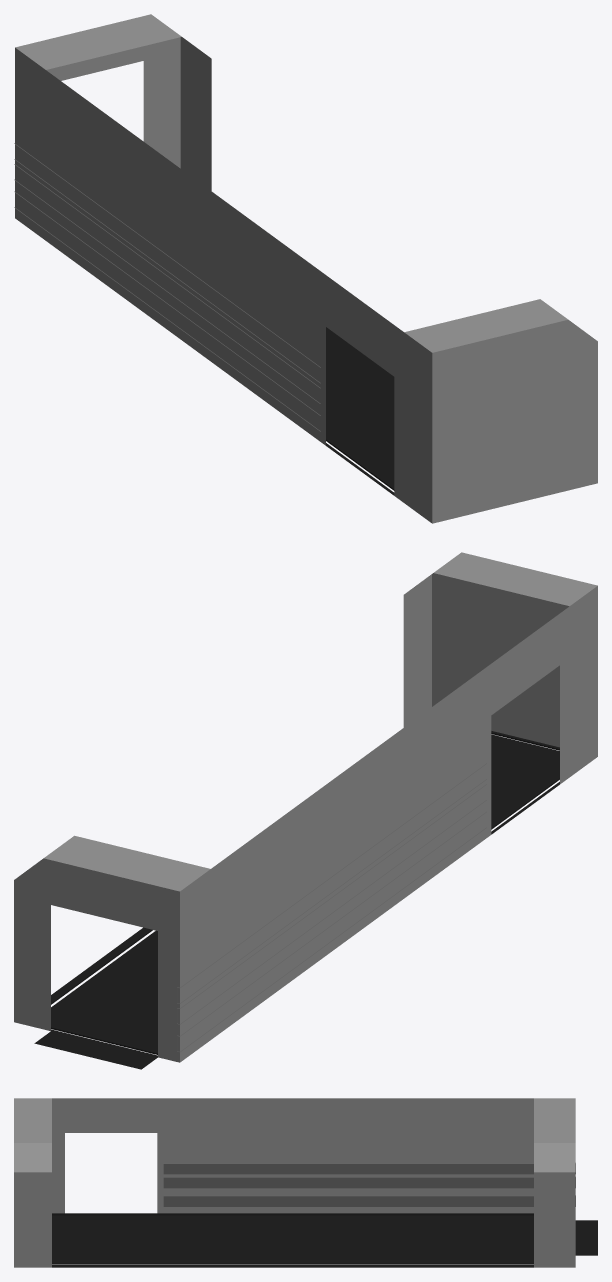
File: env_test_interior_hall_B.FBX
3 views of the same model, one above another, from view 1: azimuth 30°, elevation 25°; view 2: azimuth 150°, elevation 25°; view 3: azimuth 270°, elevation 25° (orthographic). The views are drawn at different scales.
Visible parts, largest first — view 1: hall_B; view 2: hall_B; view 3: hall_B.
Part boxes in pixels (bbox=[...]): hall_B: bbox=[14, 14, 597, 523]; hall_B: bbox=[14, 552, 597, 1069]; hall_B: bbox=[14, 1098, 597, 1267].
Size of the model in its own units: 173 by 171 by 783.
